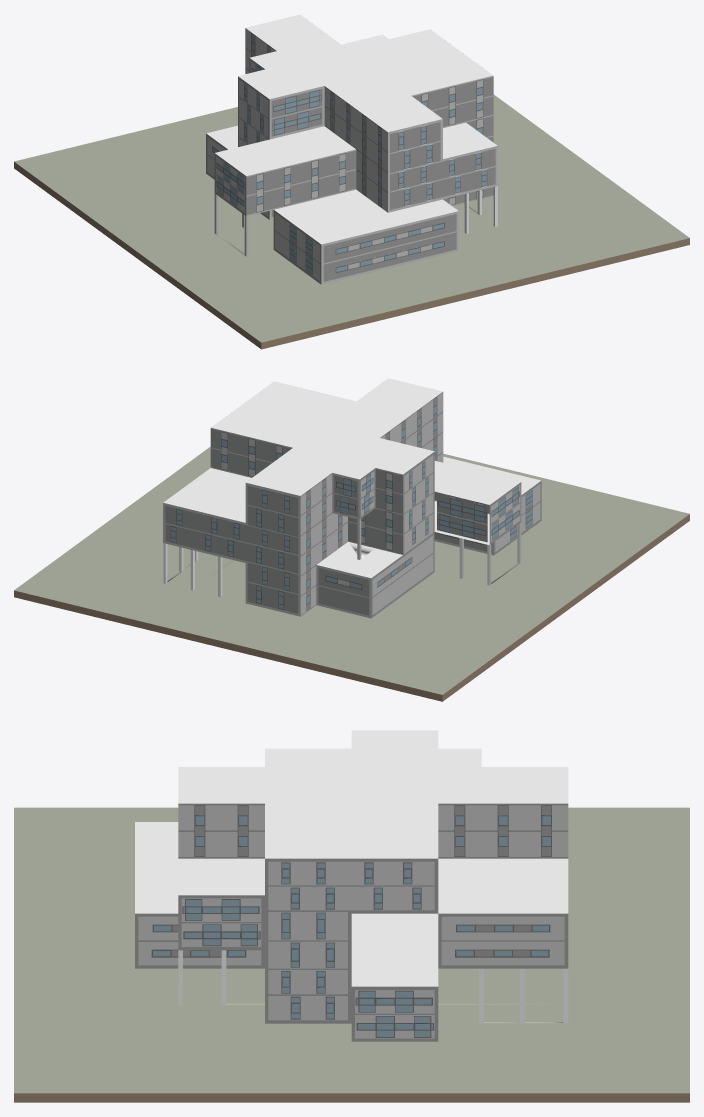
Rendered from mts5.glb.
3 renders of one model, top to bottom at view 1: azimuth 30°, elevation 25°; view 2: azimuth 150°, elevation 25°; view 3: azimuth 270°, elevation 25°, orthographic. The views are drawn at different scales.
Visible parts, largest first — view 1: Mesh9, Mesh4, Mesh5, Mesh1, Parsel_Kaide; view 2: Mesh9, Mesh4, Mesh5, Mesh1, Parsel_Kaide; view 3: Mesh9, Mesh4, Mesh1, Mesh5, Parsel_Kaide.
Boxes of the visible parts, <box> form: Mesh9: <box>14,33,689,342</box>; Mesh4: <box>212,14,492,274</box>; Mesh5: <box>206,28,495,284</box>; Mesh1: <box>207,29,497,284</box>; Parsel_Kaide: <box>14,162,689,349</box>; Mesh9: <box>14,397,689,694</box>; Mesh4: <box>171,378,532,608</box>; Mesh5: <box>163,392,541,618</box>; Mesh1: <box>165,392,540,618</box>; Parsel_Kaide: <box>14,514,689,701</box>; Mesh9: <box>14,748,689,1093</box>; Mesh4: <box>153,730,568,1036</box>; Mesh1: <box>138,805,568,1038</box>; Mesh5: <box>135,803,568,1041</box>; Parsel_Kaide: <box>14,1093,689,1102</box>.
Size of the model in its own units: 78 by 22.2 by 78.
